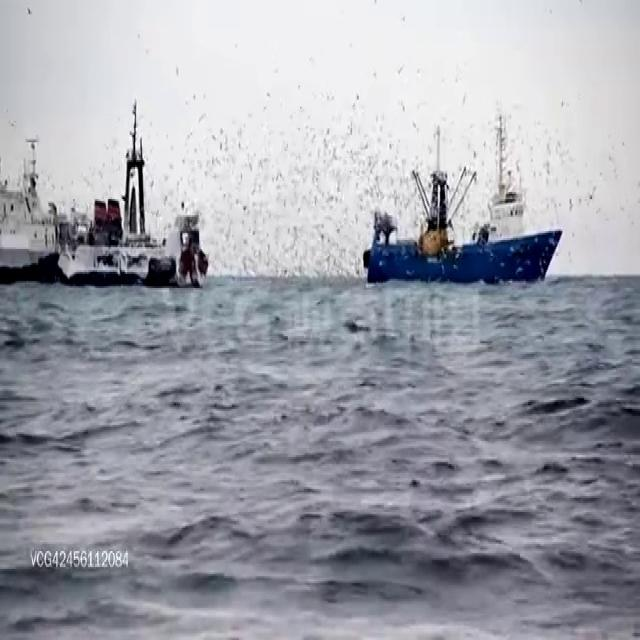houseboat: (360, 136, 564, 292), (37, 106, 211, 284), (0, 127, 95, 275)
